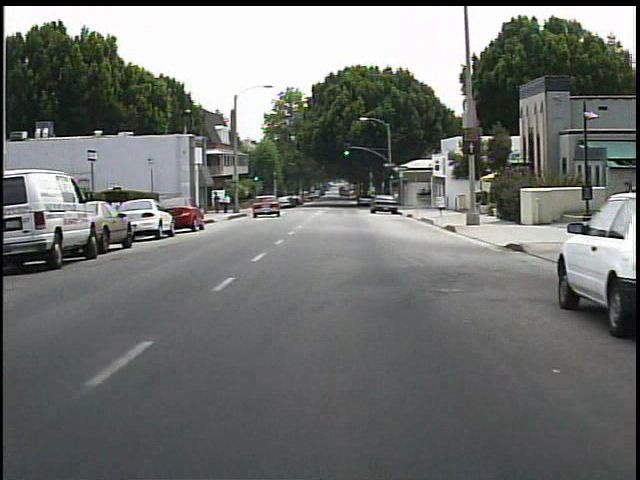person: (212, 192, 224, 216), (222, 193, 233, 215)
